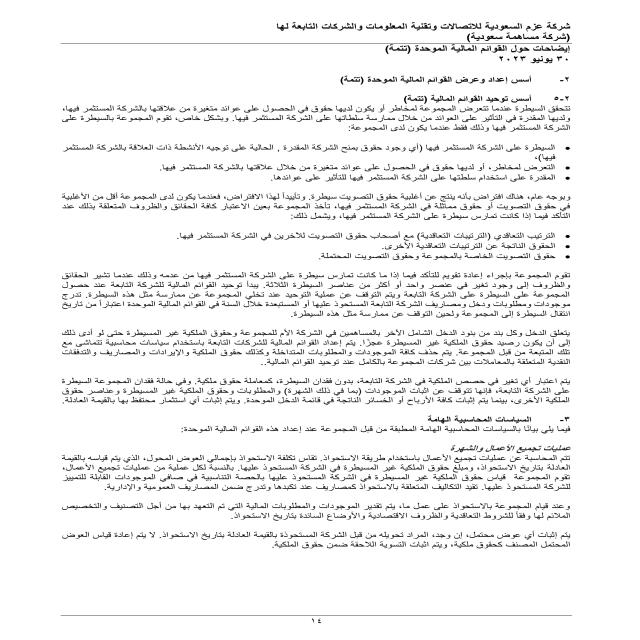notes: (380, 42, 579, 54)
text: (19, 64, 592, 564)
